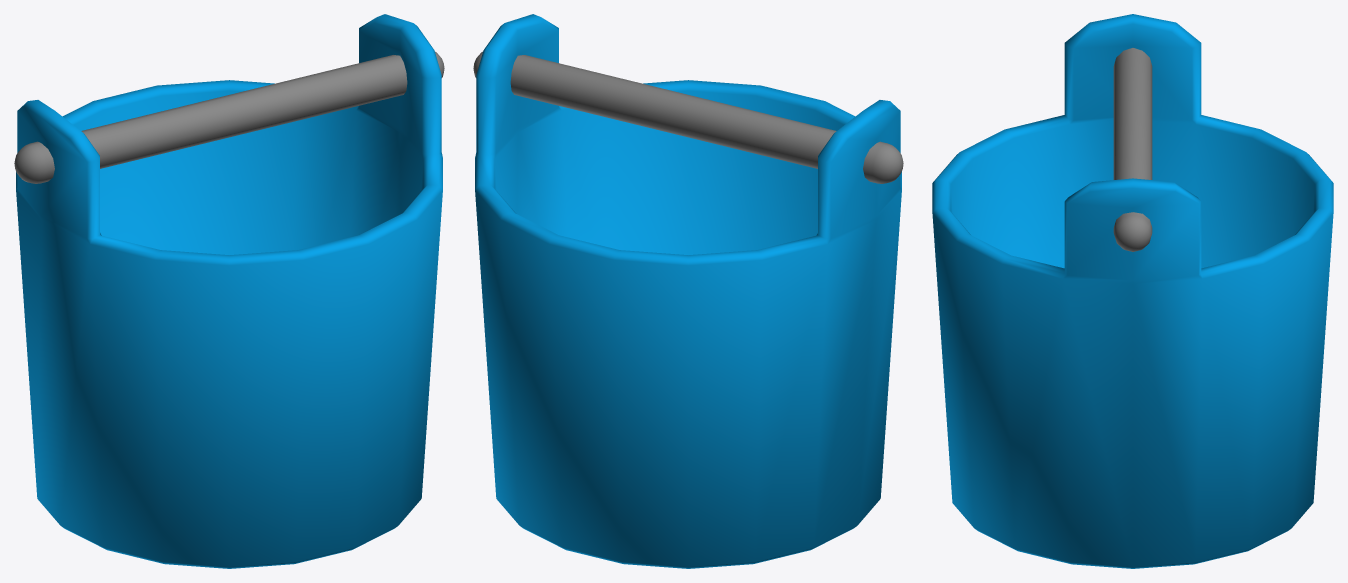
File: balde.glb
The picture shows the model from 3 angles, left to right: view 1: azimuth 30°, elevation 25°; view 2: azimuth 150°, elevation 25°; view 3: azimuth 270°, elevation 25°; orthographic projection. The views are drawn at different scales.
Visible parts, largest first — view 1: balde, alca; view 2: balde, alca; view 3: balde, alca.
Boxes of the visible parts, bbox=[...] form: balde: bbox=[16, 14, 442, 568]; alca: bbox=[14, 51, 444, 183]; balde: bbox=[475, 14, 901, 568]; alca: bbox=[473, 51, 903, 183]; balde: bbox=[932, 14, 1333, 568]; alca: bbox=[1113, 48, 1152, 251].
Bounding box in the file's own units: 0.4162 × 0.3939 × 0.3625.
